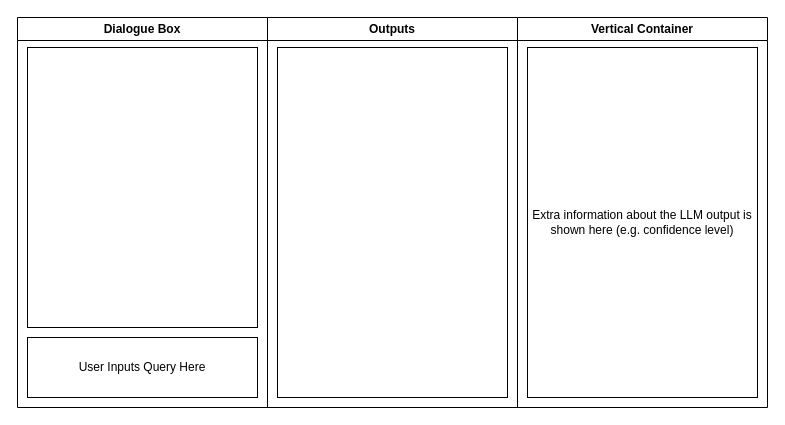
Some shapes in this 785 by 425 pixel diagram are drawn without their labels. Here are the shapes that lost their labels. From the top down, the centre of each, then its label:
point (142, 187): LLM's natural language response is here
point (392, 222): LLM's generated code is shown here
